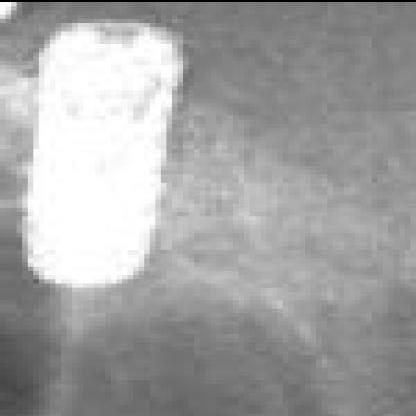ITI: (13, 24, 196, 290)
